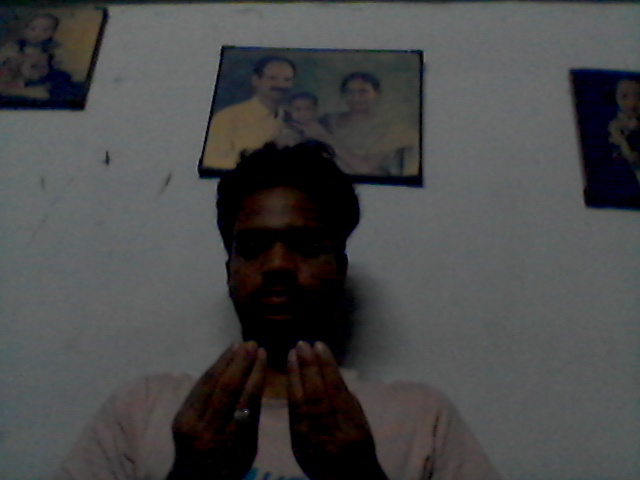Sorry: (166, 332, 392, 475)
